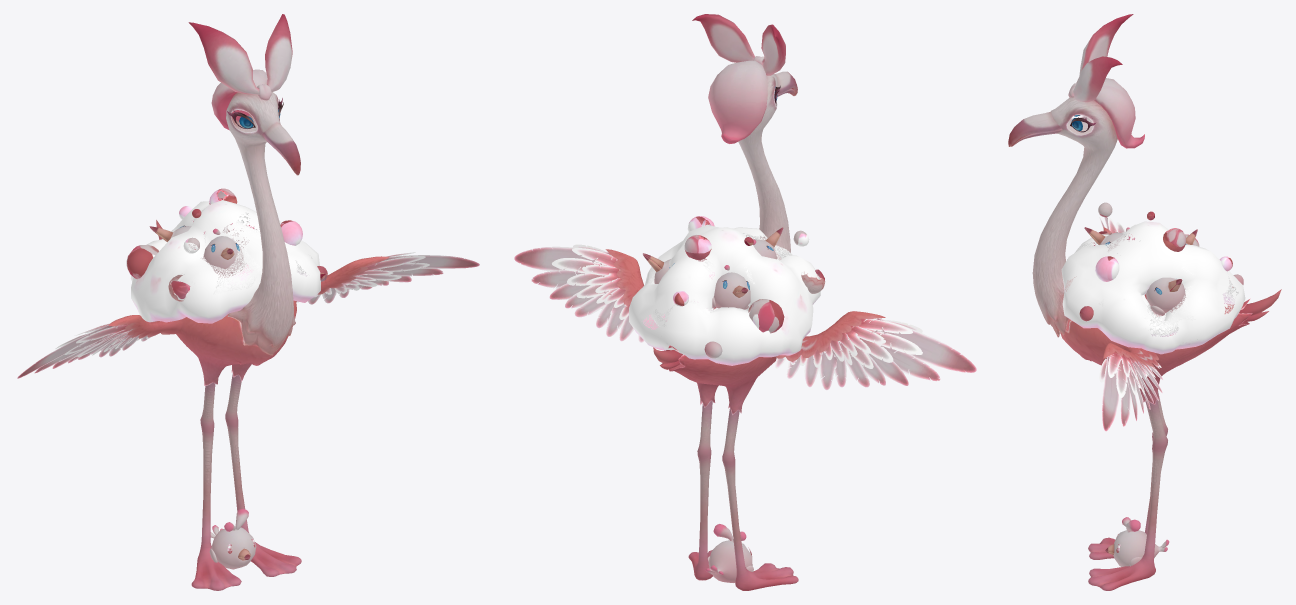
The model's file is erlath.glb.
3 views of the same model, side by side, from view 1: azimuth 30°, elevation 25°; view 2: azimuth 150°, elevation 25°; view 3: azimuth 270°, elevation 25° (orthographic). The views are drawn at different scales.
Parts seen in each view (by area): view 1: M_Parmon_10483_Body_LOD1_-1876748355.obj, M_Parmon_10483_Body01_LOD1_-1876748355.obj, M_Parmon_10483_Body02_LOD1_-1000442420.obj, M_Parmon_10483_Skill_Bubble_Body_LOD1_589370929.obj; view 2: M_Parmon_10483_Body_LOD1_-1876748355.obj, M_Parmon_10483_Body01_LOD1_-1876748355.obj, M_Parmon_10483_Body02_LOD1_-1000442420.obj, M_Parmon_10483_Skill_Bubble_Body_LOD1_589370929.obj; view 3: M_Parmon_10483_Body_LOD1_-1876748355.obj, M_Parmon_10483_Body01_LOD1_-1876748355.obj, M_Parmon_10483_Body02_LOD1_-1000442420.obj, M_Parmon_10483_Skill_Bubble_Body_LOD1_589370929.obj.
Part boxes in pixels (left/top/right/bottom): M_Parmon_10483_Body_LOD1_-1876748355.obj: left=17, top=14, right=479, bottom=590; M_Parmon_10483_Body01_LOD1_-1876748355.obj: left=130, top=200, right=320, bottom=323; M_Parmon_10483_Body02_LOD1_-1000442420.obj: left=126, top=188, right=327, bottom=301; M_Parmon_10483_Skill_Bubble_Body_LOD1_589370929.obj: left=209, top=508, right=256, bottom=569; M_Parmon_10483_Body_LOD1_-1876748355.obj: left=514, top=14, right=976, bottom=590; M_Parmon_10483_Body01_LOD1_-1876748355.obj: left=629, top=224, right=820, bottom=365; M_Parmon_10483_Body02_LOD1_-1000442420.obj: left=673, top=216, right=825, bottom=358; M_Parmon_10483_Skill_Bubble_Body_LOD1_589370929.obj: left=705, top=524, right=753, bottom=582; M_Parmon_10483_Body_LOD1_-1876748355.obj: left=1008, top=14, right=1281, bottom=590; M_Parmon_10483_Body01_LOD1_-1876748355.obj: left=1061, top=221, right=1245, bottom=354; M_Parmon_10483_Body02_LOD1_-1000442420.obj: left=1079, top=202, right=1243, bottom=321; M_Parmon_10483_Skill_Bubble_Body_LOD1_589370929.obj: left=1105, top=517, right=1169, bottom=566.
Bounding box in the file's own units: 1.38 × 1.56 × 0.7256.
3 materials, 3 textured.
